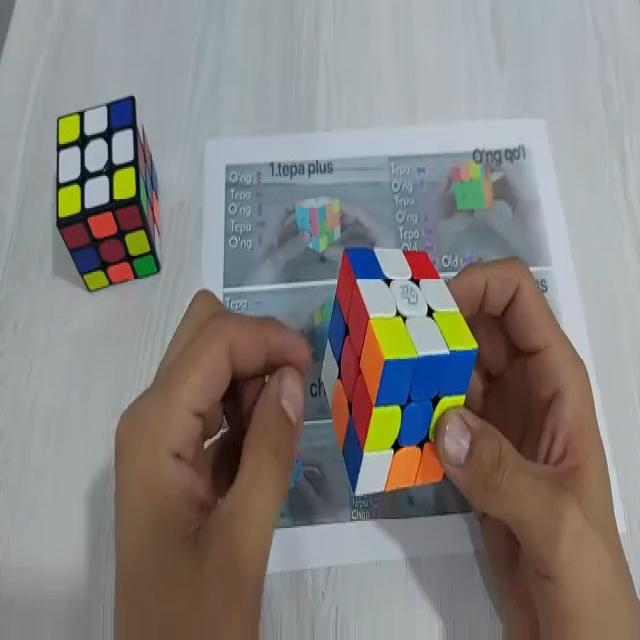Rub: (322, 244, 478, 498), (56, 89, 160, 292)
